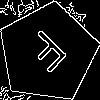F: (22, 28, 76, 81)
